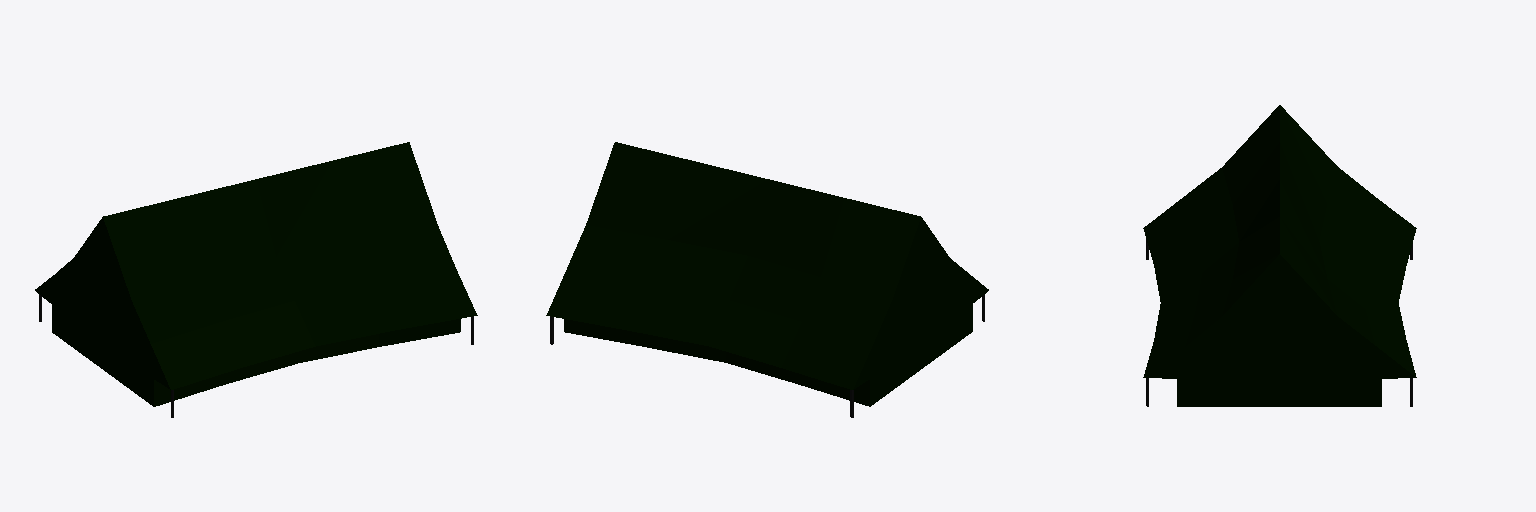
Rendered from Campamento.obj.
3 renders of one model, left to right at view 1: azimuth 30°, elevation 25°; view 2: azimuth 150°, elevation 25°; view 3: azimuth 270°, elevation 25°, orthographic.
Parts seen in each view (by area): view 1: Tienda_Cube.002; view 2: Tienda_Cube.002; view 3: Tienda_Cube.002.
Boxes of the visible parts, box(x1,y1,x2,y2) form: Tienda_Cube.002: box(35, 142, 477, 406); Tienda_Cube.002: box(546, 142, 988, 406); Tienda_Cube.002: box(1143, 105, 1416, 406).
Size of the model in its own units: 10.36 by 4.96 by 8.